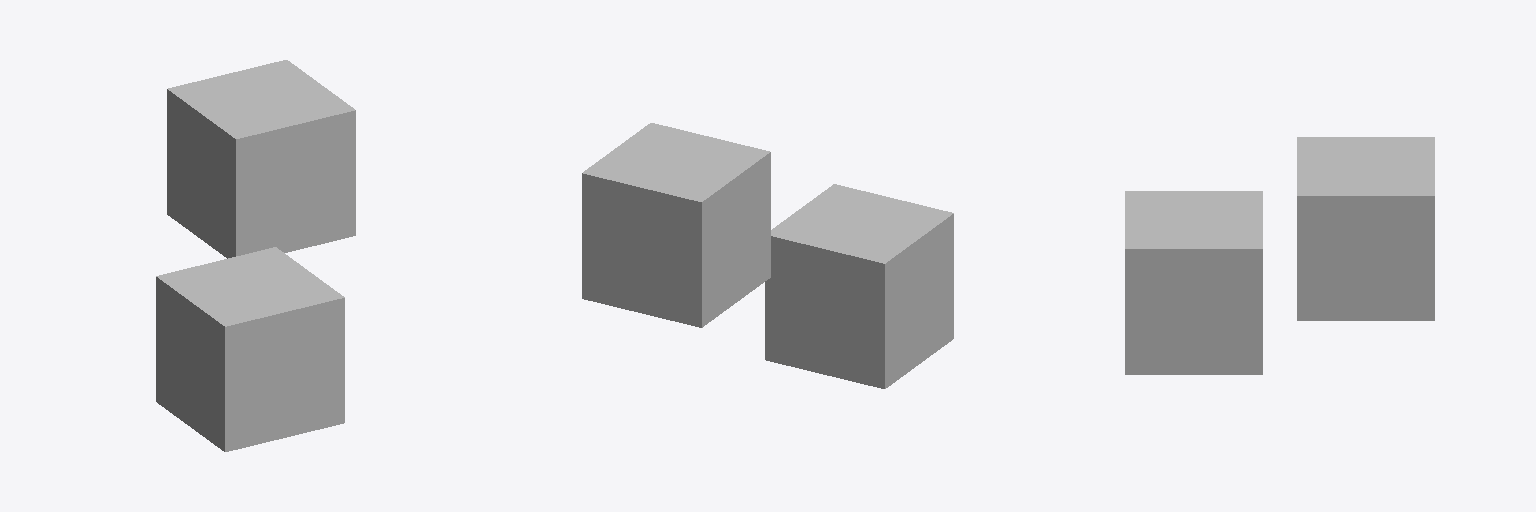
The model's file is CuboaoCubo.obj.
3 views of the same model, side by side, from view 1: azimuth 30°, elevation 25°; view 2: azimuth 150°, elevation 25°; view 3: azimuth 270°, elevation 25° (orthographic).
Parts seen in each view (by area): view 1: Cube, Cube.001; view 2: Cube.001, Cube; view 3: Cube, Cube.001.
Part boxes in pixels (x1,y1,x2,y2): Cube: (156, 247, 344, 451); Cube.001: (167, 60, 355, 258); Cube.001: (582, 123, 770, 327); Cube: (765, 184, 953, 388); Cube: (1125, 191, 1262, 374); Cube.001: (1297, 137, 1434, 320).
Size of the model in its own units: 3.62 by 3.6 by 4.48.